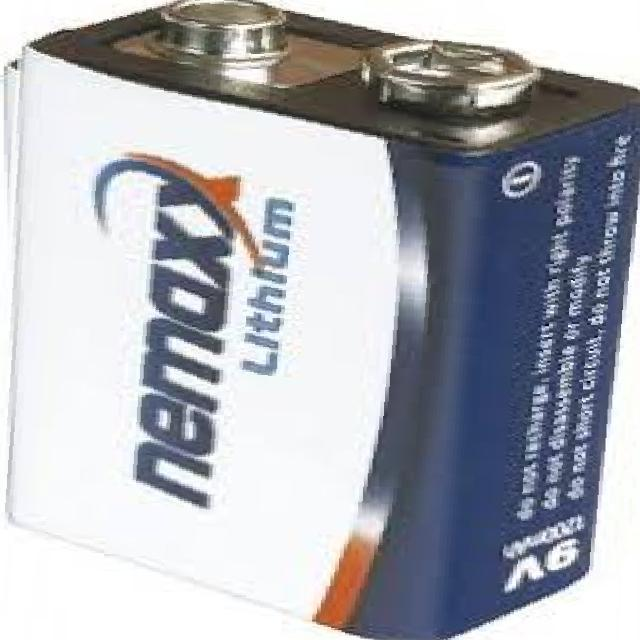Battery: (9, 0, 640, 640)
